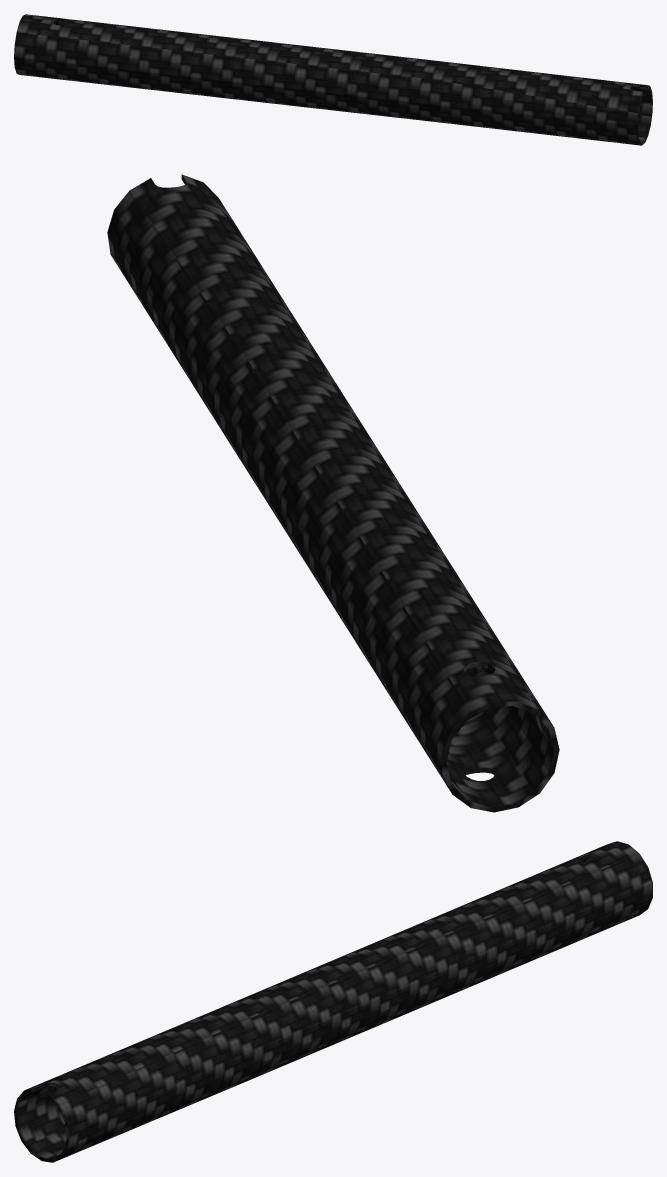
Rendered from arm_carbon_mesh_file.dae.
3 views of the same model, one above another, from view 1: azimuth 30°, elevation 25°; view 2: azimuth 150°, elevation 25°; view 3: azimuth 270°, elevation 25° (orthographic). The views are drawn at different scales.
Visible parts, largest first — view 1: Arm Carbon Mesh File; view 2: Arm Carbon Mesh File; view 3: Arm Carbon Mesh File.
Part boxes in pixels (left/top/right/bottom): Arm Carbon Mesh File: left=14, top=14, right=652, bottom=145; Arm Carbon Mesh File: left=107, top=174, right=559, bottom=812; Arm Carbon Mesh File: left=14, top=841, right=652, bottom=1162.
Size of the model in its own units: 0.1254 by 0.1253 by 0.0154.
Materials: 1 (1 with a texture image).
